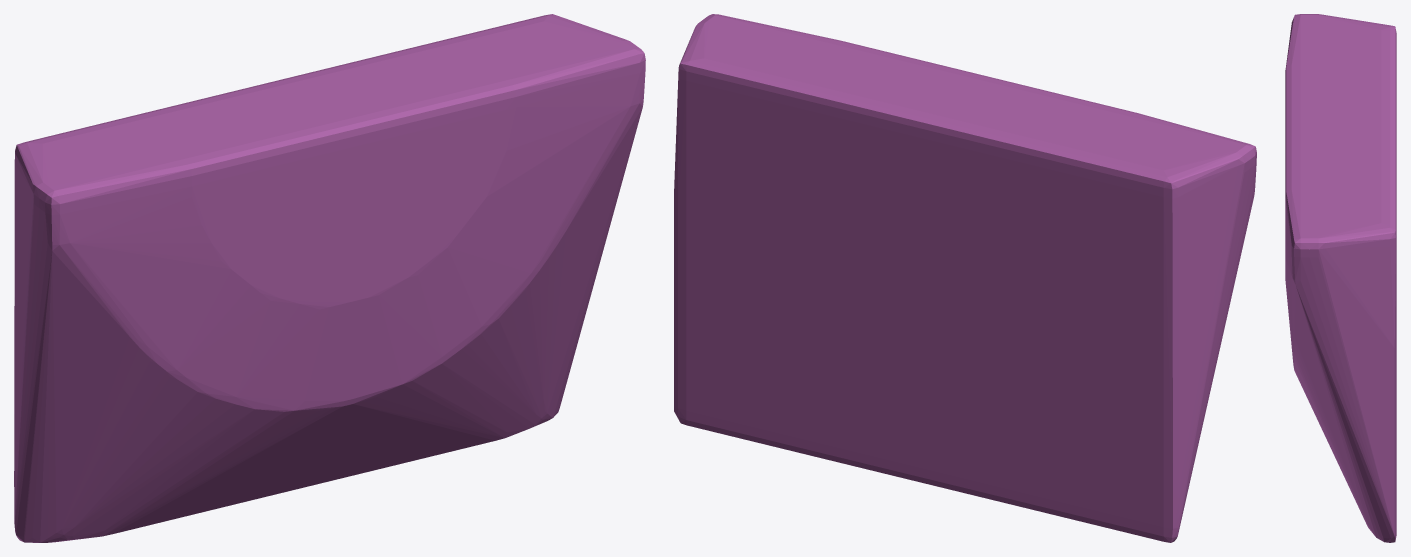
Rendered from pelvis_part_7.obj.
3 renders of one model, left to right at view 1: azimuth 30°, elevation 25°; view 2: azimuth 150°, elevation 25°; view 3: azimuth 270°, elevation 25°, orthographic. The views are drawn at different scales.
Size of the model in its own units: 0.1239 by 0.0789 by 0.0253.
